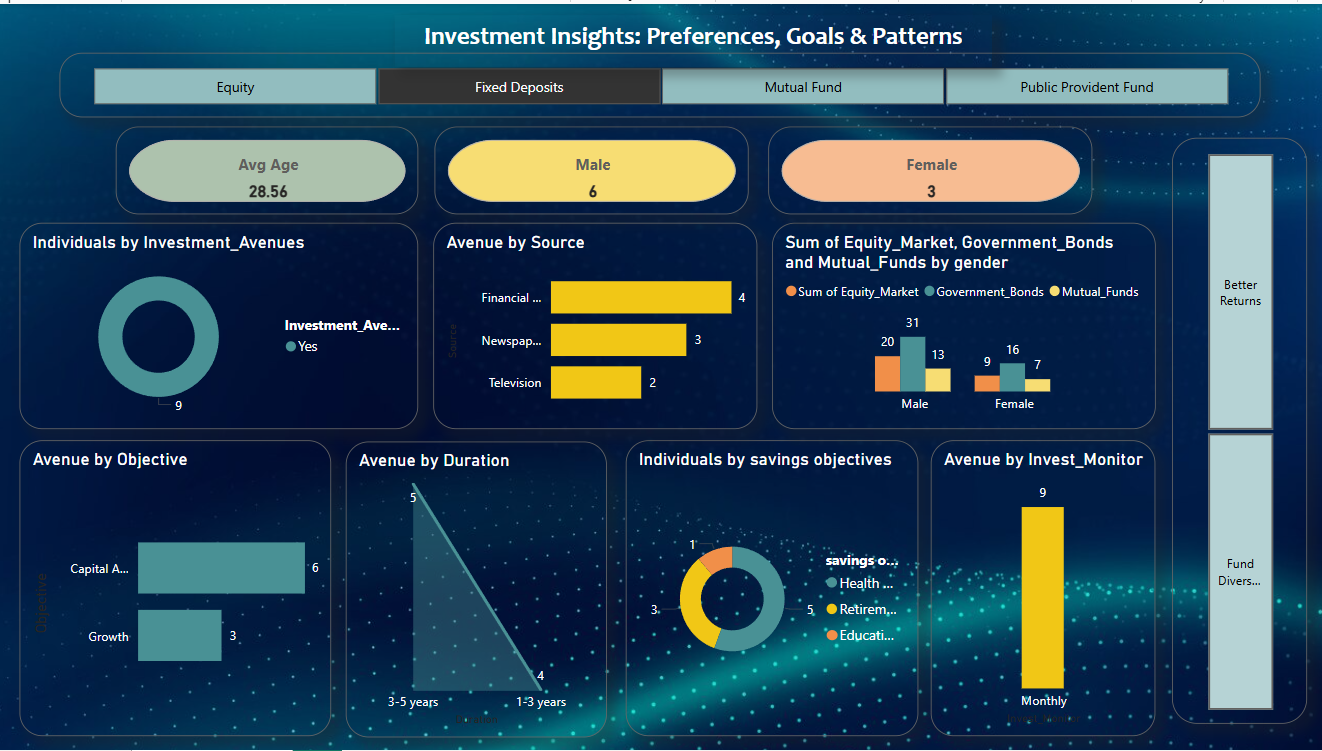

This screenshot's page, from the dashboard's own definition file:
{"tool":"powerbi","page":{"name":"Final Dashboard","canvas":[1280,720],"ordinal":0},"visuals":[{"type":"donutChart","fields":{"Category":["Data_set 2.What are your savings objectives?"],"Y":["CountNonNull(Data_set 2.gender)"]},"box":[606.8,421,282.3,285.9],"z":0},{"type":"donutChart","fields":{"Category":["Data_set 2.Investment_Avenues"],"Y":["CountNonNull(Data_set 2.gender)"]},"box":[21.7,211.1,384.9,199.1],"z":1000},{"type":"cardVisual","fields":{"Data":["Data_set 2.Avg Age"]},"box":[114.6,118.2,292,84.5],"z":2000},{"type":"clusteredColumnChart","fields":{"Y":["Sum(Data_set 2.Equity_Market)","Sum(Data_set 2.Government_Bonds)","Sum(Data_set 2.Mutual_Funds)"],"Category":["Data_set 2.gender"]},"box":[748,211.1,370.4,199.1],"z":3000},{"type":"cardVisual","fields":{"Data":["Data_set 2.Male"]},"box":[422.3,118.2,302.8,84.5],"z":4000},{"type":"cardVisual","fields":{"Data":["Data_set 2.Female"]},"box":[744.4,118.2,312.5,84.5],"z":5000},{"type":"clusteredBarChart","fields":{"Category":["Data_set 2.Objective"],"Y":["CountNonNull(Data_set 2.Avenue)"]},"box":[21.7,421,300.4,285.9],"z":6000},{"type":"slicer","fields":{"Values":["Data_set 2.Avenue"]},"box":[60.3,47.1,1159.4,62.7],"z":7000},{"type":"areaChart","fields":{"Category":["Data_set 2.Duration"],"Y":["CountNonNull(Data_set 2.Avenue)"]},"box":[336.6,422.3,252.1,285.9],"z":8000},{"type":"clusteredColumnChart","fields":{"Category":["Data_set 2.Invest_Monitor"],"Y":["CountNonNull(Data_set 2.Avenue)"]},"box":[901.2,421,217.2,285.9],"z":9000},{"type":"slicer","fields":{"Values":["Data_set 2.Reason_Mutual"]},"box":[1134.1,129.1,130.3,565.8],"z":10000},{"type":"clusteredBarChart","fields":{"Category":["Data_set 2.Source"],"Y":["CountNonNull(Data_set 2.Avenue)"]},"box":[421,211.1,312.5,199.1],"z":11000},{"type":"textbox","box":[383.6,10.9,576.7,49.5],"z":12000}]}

Visuals, with their boxes in screenshot pixels (x1, y1, x2, y2), scaled from the page's 1280x720 canvas onto the 1322x751 screenshot:
donutChart - Data_set 2.What are your savings objectives? x CountNonNull(Data_set 2.gender): (x1=627, y1=439, x2=918, y2=737)
donutChart - Data_set 2.Investment_Avenues x CountNonNull(Data_set 2.gender): (x1=22, y1=220, x2=420, y2=428)
cardVisual - Data_set 2.Avg Age: (x1=118, y1=123, x2=420, y2=211)
clusteredColumnChart - Sum(Data_set 2.Equity_Market) x Sum(Data_set 2.Government_Bonds): (x1=773, y1=220, x2=1155, y2=428)
cardVisual - Data_set 2.Male: (x1=436, y1=123, x2=749, y2=211)
cardVisual - Data_set 2.Female: (x1=769, y1=123, x2=1092, y2=211)
clusteredBarChart - Data_set 2.Objective x CountNonNull(Data_set 2.Avenue): (x1=22, y1=439, x2=333, y2=737)
slicer - Data_set 2.Avenue: (x1=62, y1=49, x2=1260, y2=115)
areaChart - Data_set 2.Duration x CountNonNull(Data_set 2.Avenue): (x1=348, y1=440, x2=608, y2=739)
clusteredColumnChart - Data_set 2.Invest_Monitor x CountNonNull(Data_set 2.Avenue): (x1=931, y1=439, x2=1155, y2=737)
slicer - Data_set 2.Reason_Mutual: (x1=1171, y1=135, x2=1306, y2=725)
clusteredBarChart - Data_set 2.Source x CountNonNull(Data_set 2.Avenue): (x1=435, y1=220, x2=758, y2=428)
textbox: (x1=396, y1=11, x2=992, y2=63)
